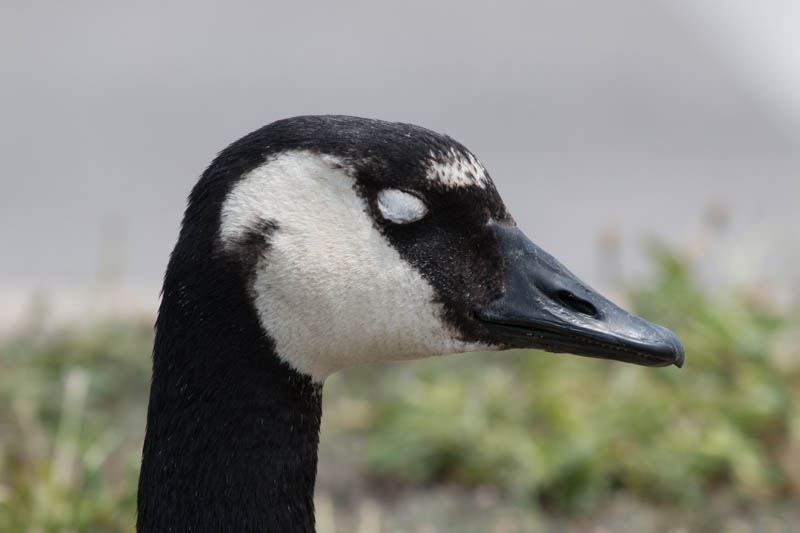goose-head: (148, 113, 687, 385)
